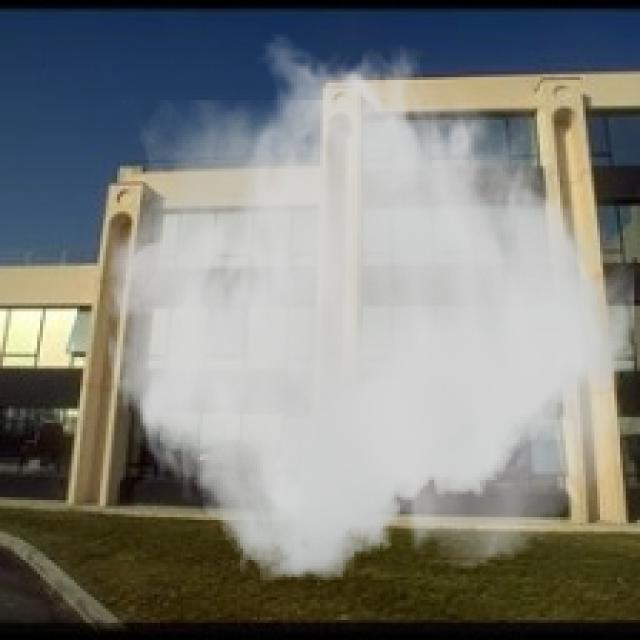smoke: (100, 31, 634, 580)
